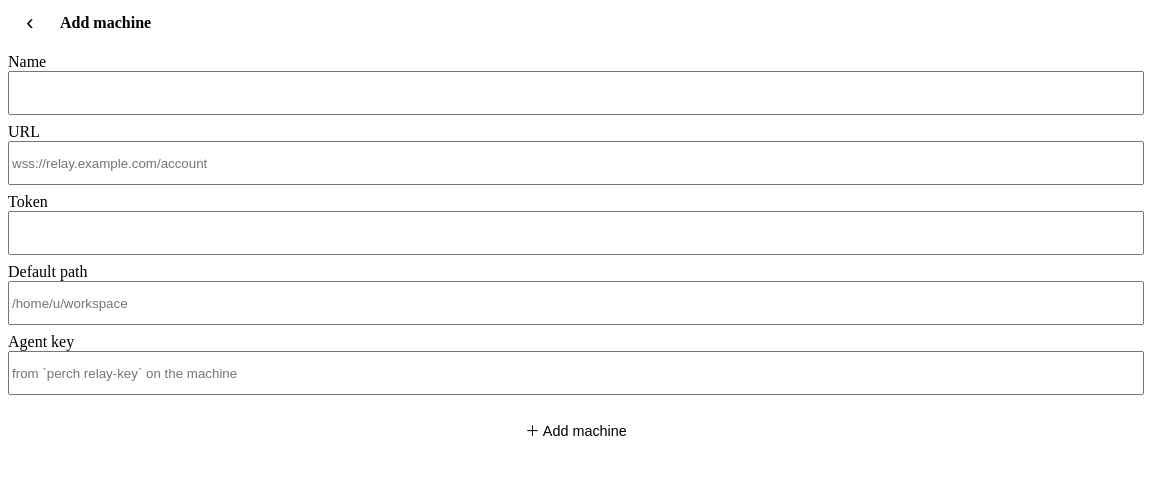
Test: AddMachine › refuses a machine with no agent key, and says why
Type "Dev" into the field labelled "Name". click: (576, 93)
box: [8, 71, 1144, 115]
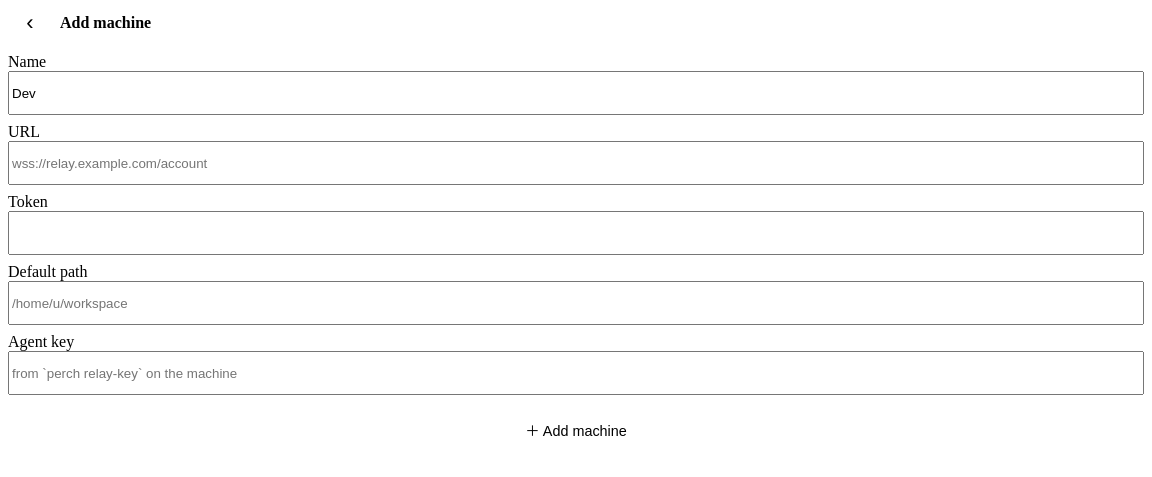
Type "wss://relay/acct" into the field labelled "URL". click: (576, 163)
box: [8, 141, 1144, 185]
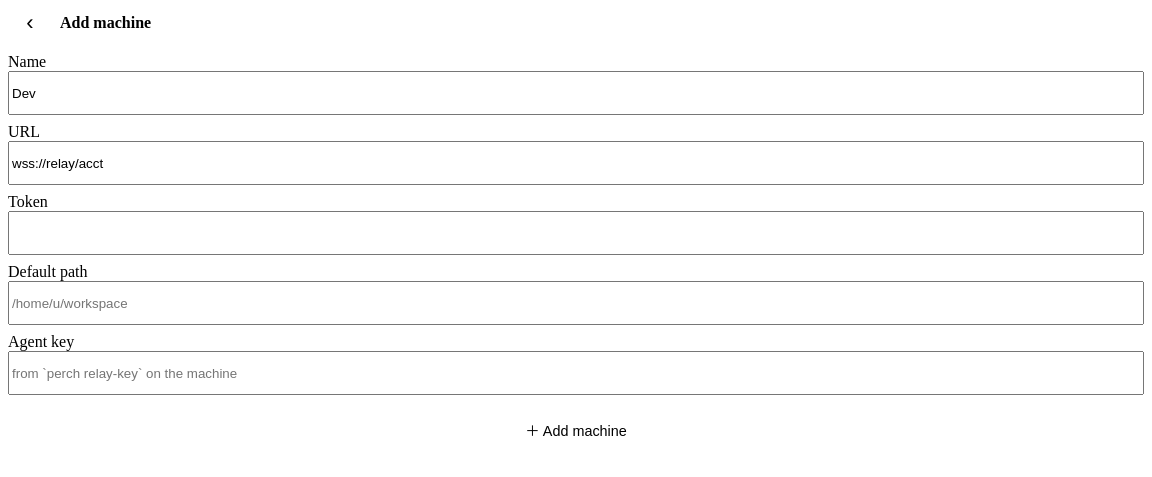
Type "sek" into the password field labelled "Token". click: (576, 233)
box: [8, 211, 1144, 255]
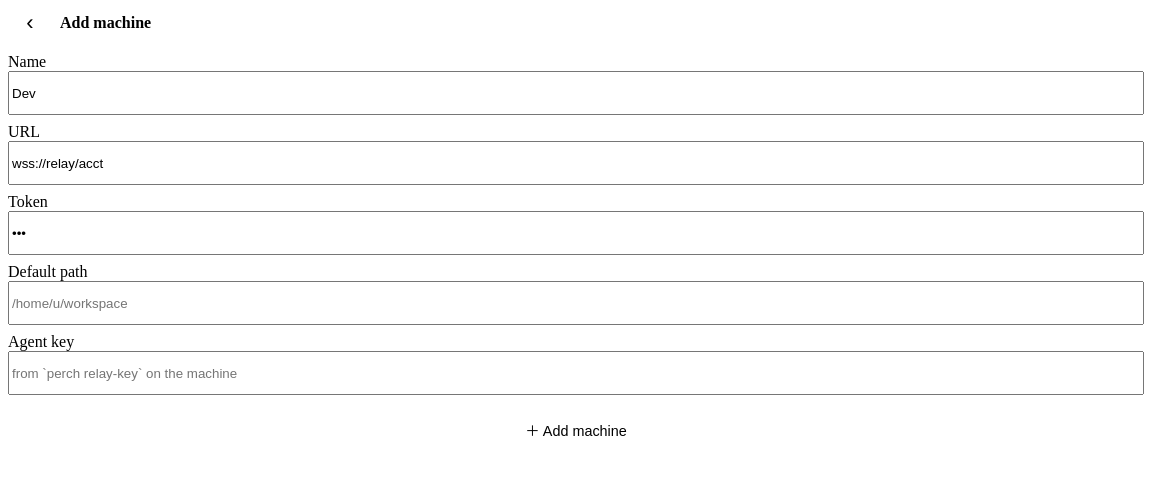
Click the button "＋ Add machine". click: (576, 429)
box: [8, 407, 1144, 451]
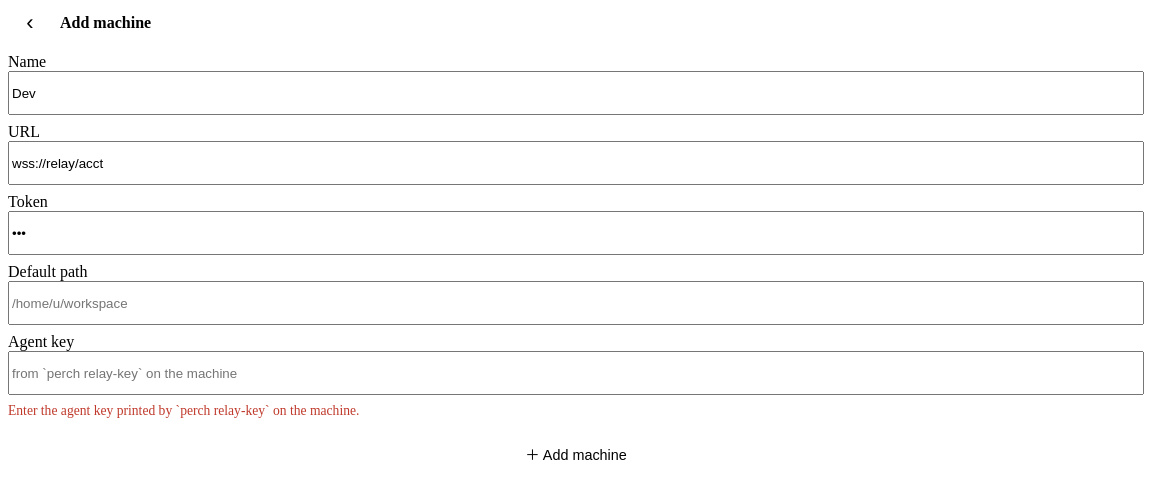
Expected: the message shows "agent key", [8, 403, 359, 418]
